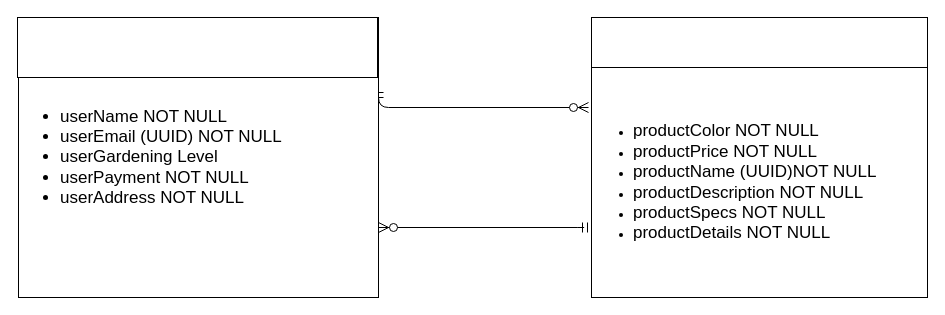
The diagram is 945 pixels wide and 315 high, and some of its shapes have lost their labels. Here are the shapes that lost their labels. From the top down, the centre of each, then its label:
At pixel 197 47: "User".
At pixel 759 47: "Products".
